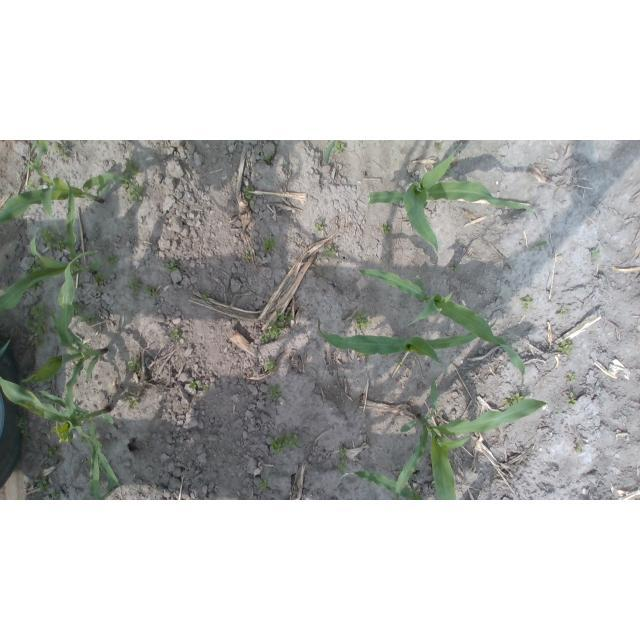Maize: (359, 269, 526, 389), (370, 142, 539, 259), (394, 378, 548, 500), (20, 249, 109, 444), (0, 376, 124, 500), (1, 175, 102, 313), (1, 140, 140, 226), (318, 317, 499, 363), (86, 420, 124, 500), (353, 470, 424, 500)
Weeds: (260, 310, 296, 345), (118, 161, 142, 202), (29, 303, 48, 345), (268, 433, 301, 456), (39, 228, 66, 253), (72, 303, 97, 325), (503, 392, 529, 411), (354, 311, 373, 331), (53, 144, 71, 165), (190, 380, 209, 397), (267, 384, 283, 401), (262, 236, 277, 254), (338, 448, 348, 473), (263, 357, 278, 373), (558, 341, 574, 356), (123, 396, 140, 410), (556, 304, 572, 318), (243, 187, 255, 205), (19, 416, 29, 436), (566, 392, 578, 408), (36, 479, 49, 493), (126, 360, 140, 373), (380, 222, 393, 236), (521, 296, 535, 309), (529, 241, 547, 251), (333, 141, 346, 154), (324, 244, 336, 258), (130, 280, 143, 292), (28, 178, 41, 190), (262, 154, 274, 165), (146, 287, 159, 297), (243, 250, 252, 264), (567, 373, 578, 384), (314, 221, 325, 232), (591, 249, 602, 260), (96, 273, 106, 285), (259, 479, 269, 491), (165, 264, 179, 272), (45, 448, 57, 456), (172, 329, 181, 339), (109, 256, 119, 265), (435, 141, 444, 151), (203, 294, 210, 303), (575, 444, 582, 453), (450, 267, 459, 273)
